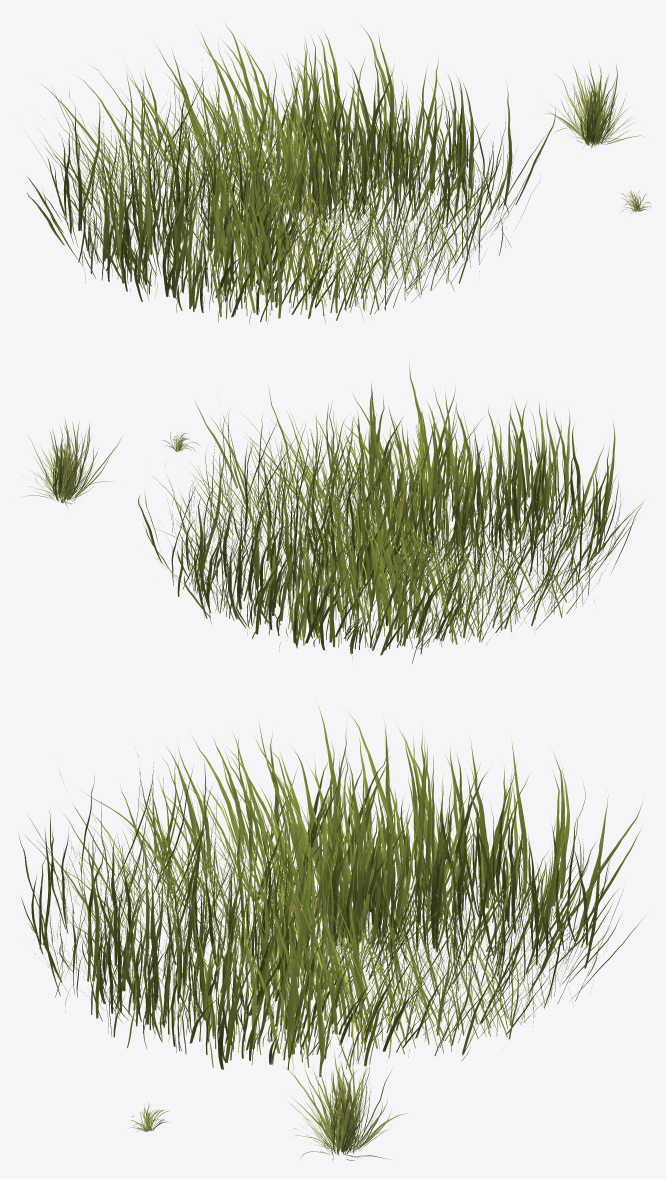
The model's file is grass.glb.
3 renders of one model, top to bottom at view 1: azimuth 30°, elevation 25°; view 2: azimuth 150°, elevation 25°; view 3: azimuth 270°, elevation 25°, orthographic. The views are drawn at different scales.
Visible parts, largest first — view 1: GrassLawnAutumn, Grass1; view 2: GrassLawnAutumn, Grass1; view 3: GrassLawnAutumn, Grass1.
Boxes of the visible parts, bbox=[...] form: GrassLawnAutumn: bbox=[25, 23, 555, 323]; Grass1: bbox=[544, 62, 643, 149]; GrassLawnAutumn: bbox=[138, 364, 643, 663]; Grass1: bbox=[23, 419, 122, 507]; GrassLawnAutumn: bbox=[19, 705, 644, 1077]; Grass1: bbox=[283, 1052, 407, 1161].
Bounding box in the file's own units: 4.79 × 1.02 × 3.57.
9 materials, 9 textured.
